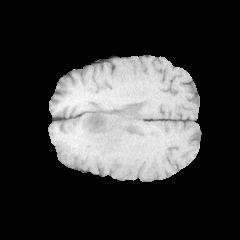glioma: (65, 102, 140, 154)
